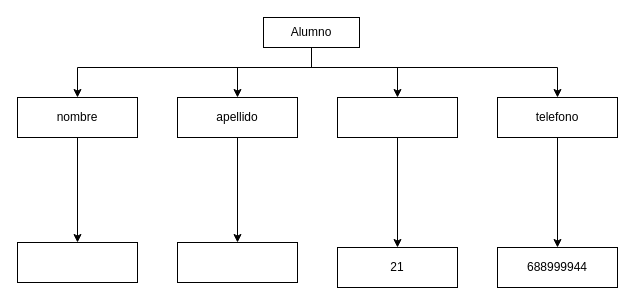
The diagram is 635 pixels wide and 305 high, and some of its shapes have lost their labels. Here are the shapes that lost their labels. From the top down, the centre of each, then its label:
[397,117]: edad
[77,262]: Paco
[237,262]: Jones
